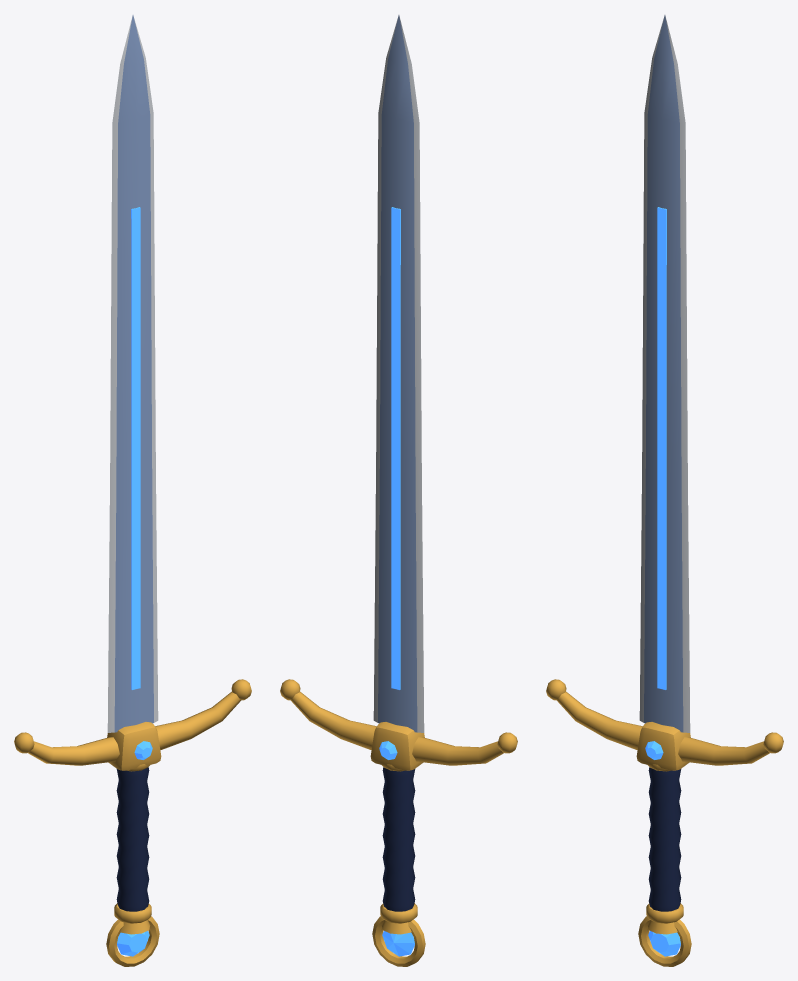
File: knight_blade.glb
3 views of the same model, side by side, from view 1: azimuth 30°, elevation 25°; view 2: azimuth 150°, elevation 25°; view 3: azimuth 330°, elevation 25° (orthographic).
Parts seen in each view (by area): view 1: knight_blade; view 2: knight_blade; view 3: knight_blade.
Boxes of the visible parts, x1=… form: knight_blade: x1=14, y1=15, x2=251, y2=966; knight_blade: x1=280, y1=15, x2=517, y2=966; knight_blade: x1=546, y1=15, x2=783, y2=966.
Bounding box in the file's own units: 0.308 × 1.19 × 0.0624.
